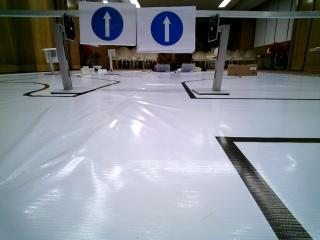straight: (139, 5, 194, 50), (79, 2, 135, 43)
